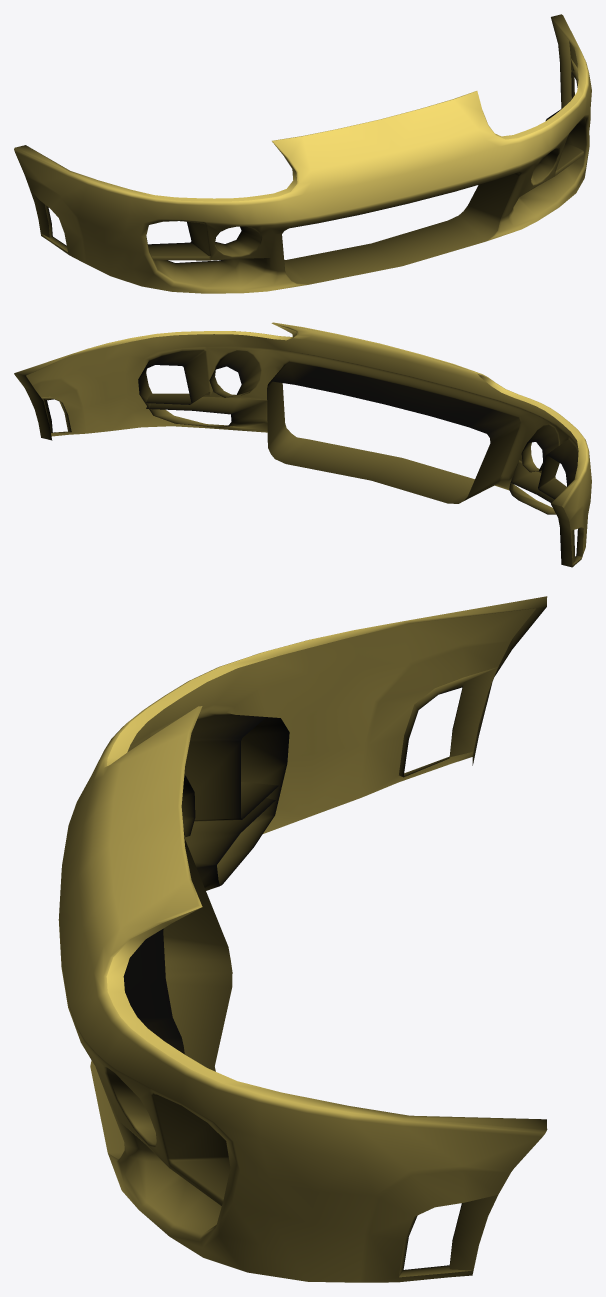
The model's file is Supra_FrontBar_03_Duco.fbx.
3 views of the same model, one above another, from view 1: azimuth 30°, elevation 25°; view 2: azimuth 150°, elevation 25°; view 3: azimuth 270°, elevation 25° (orthographic). The views are drawn at different scales.
Visible parts, largest first — view 1: Supra_FrontBar_03_Duco; view 2: Supra_FrontBar_03_Duco; view 3: Supra_FrontBar_03_Duco.
Boxes of the visible parts, x1,y1,x2,y2 form: Supra_FrontBar_03_Duco: (14,14,591,293); Supra_FrontBar_03_Duco: (14,322,591,567); Supra_FrontBar_03_Duco: (58,596,547,1282).
Bounding box in the file's own units: 176 × 39.96 × 67.87.
